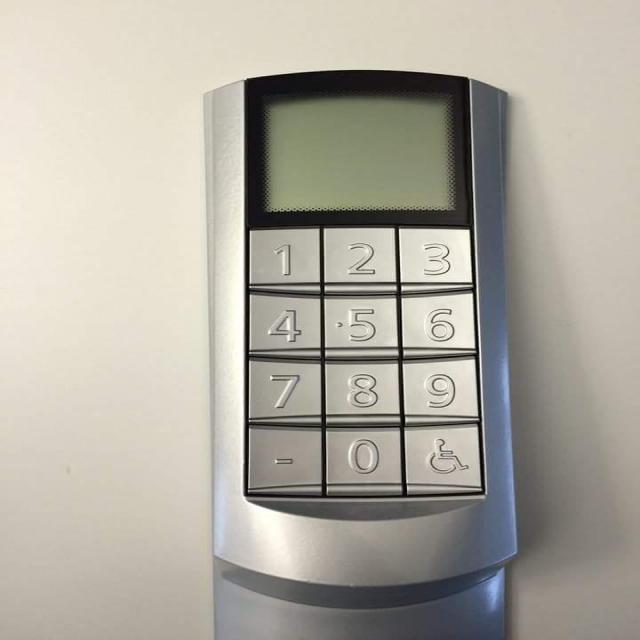-: (244, 421, 322, 490)
0: (322, 420, 402, 490)
1: (244, 224, 322, 286)
2: (319, 223, 398, 286)
3: (394, 222, 474, 284)
4: (244, 287, 322, 351)
5: (321, 287, 399, 351)
6: (398, 286, 476, 351)
7: (244, 353, 322, 418)
8: (323, 353, 401, 418)
9: (399, 353, 477, 418)
CH: (401, 420, 482, 490)
led: (237, 66, 479, 231)
